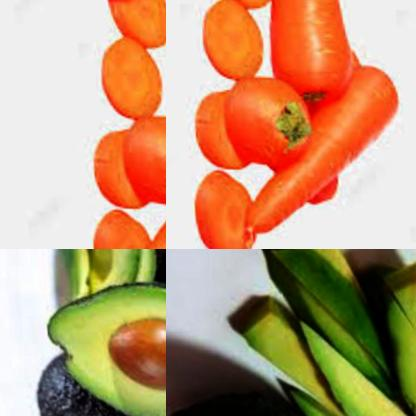avocado: (213, 249, 416, 416), (19, 281, 166, 416), (16, 355, 166, 416), (40, 249, 166, 290)
carrot: (241, 61, 400, 235), (168, 71, 317, 181), (252, 0, 361, 110), (66, 110, 166, 221), (66, 31, 166, 126), (168, 0, 274, 86), (185, 156, 268, 249), (83, 196, 166, 249), (106, 0, 166, 58), (208, 0, 282, 18)
